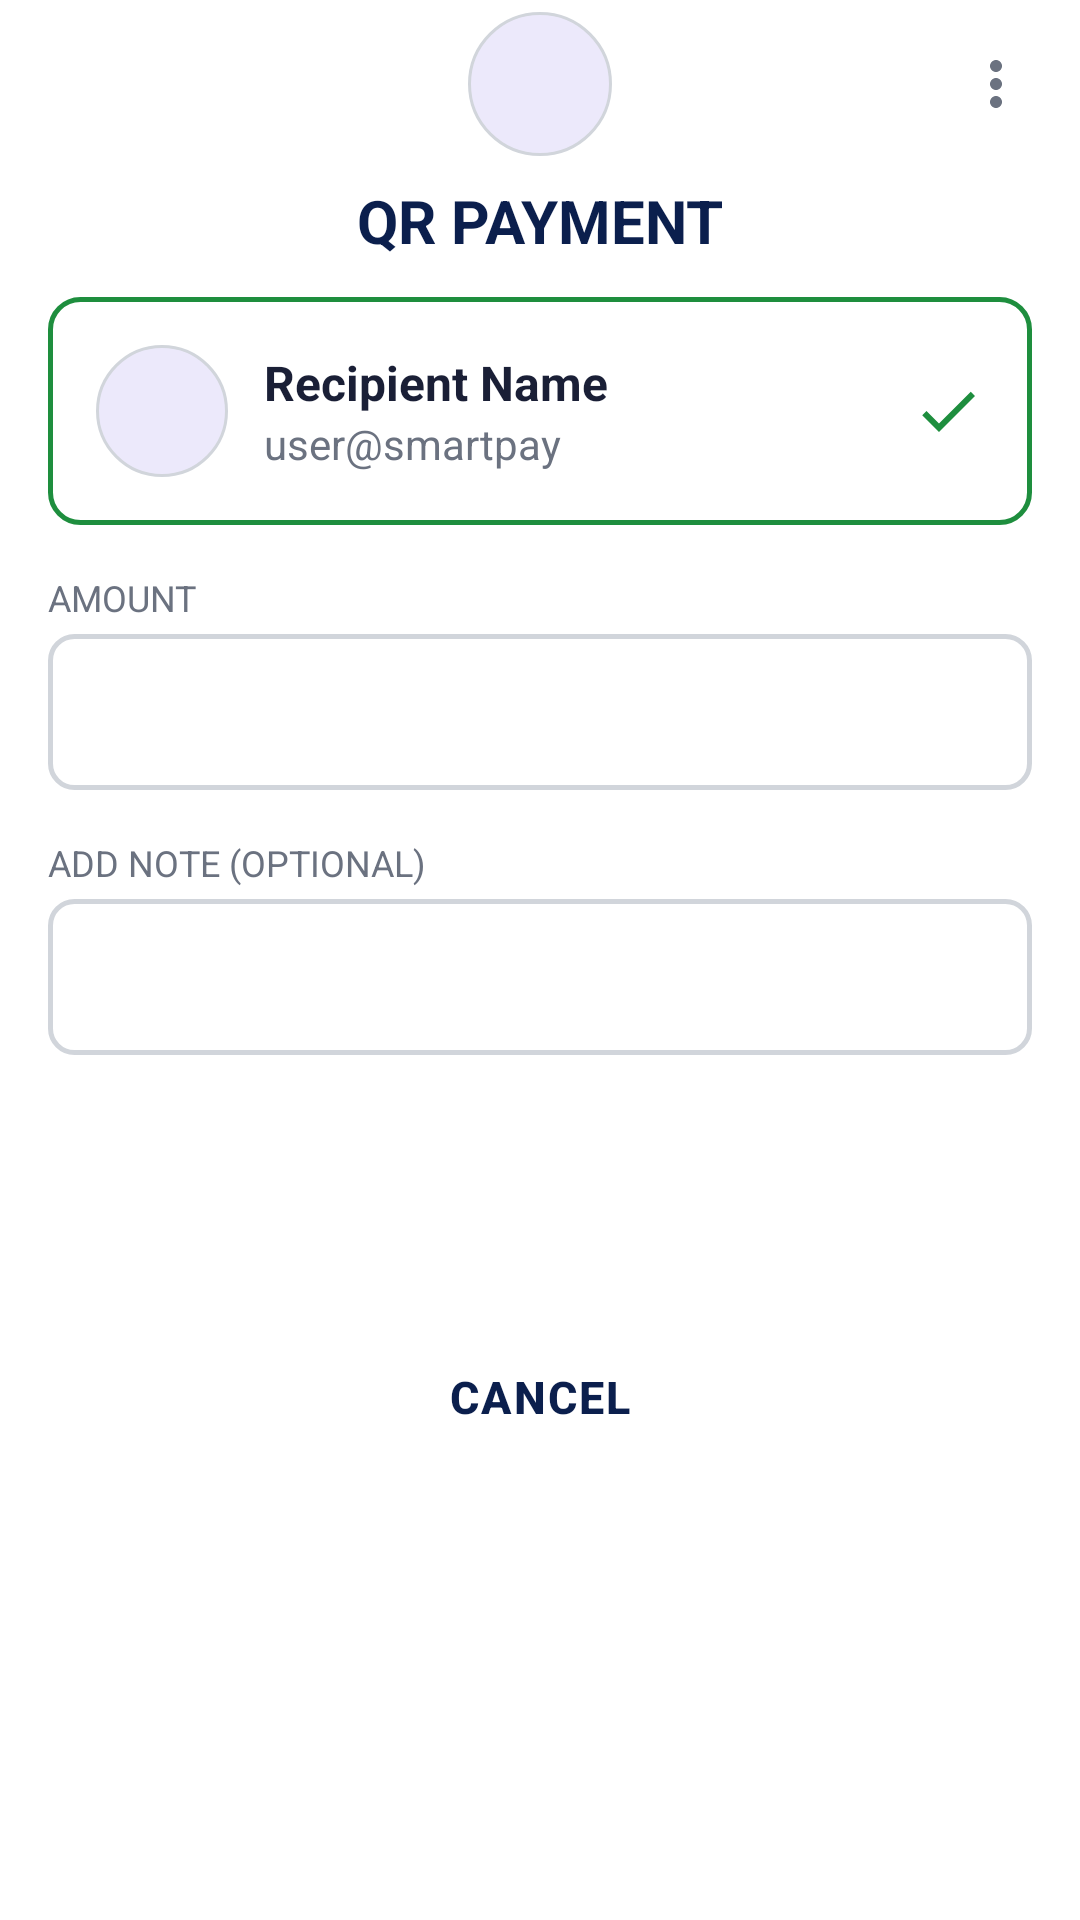

Locate icon controls on the screen. Image size 1080×1920, boxes as (x1, y1, x2, y2).
More options: (990, 60, 1002, 108)
